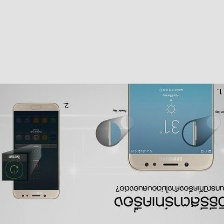phone: (123, 26, 217, 175), (9, 100, 64, 204)
